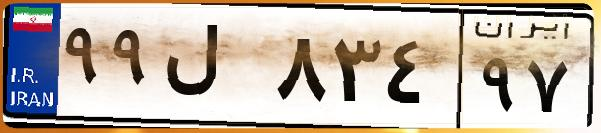3: (330, 28, 385, 110)
4: (385, 28, 445, 110)
7: (525, 38, 570, 115)
8: (270, 28, 330, 110)
9: (57, 26, 110, 100), (475, 38, 525, 113), (110, 28, 158, 98)
ل: (158, 20, 270, 120)
